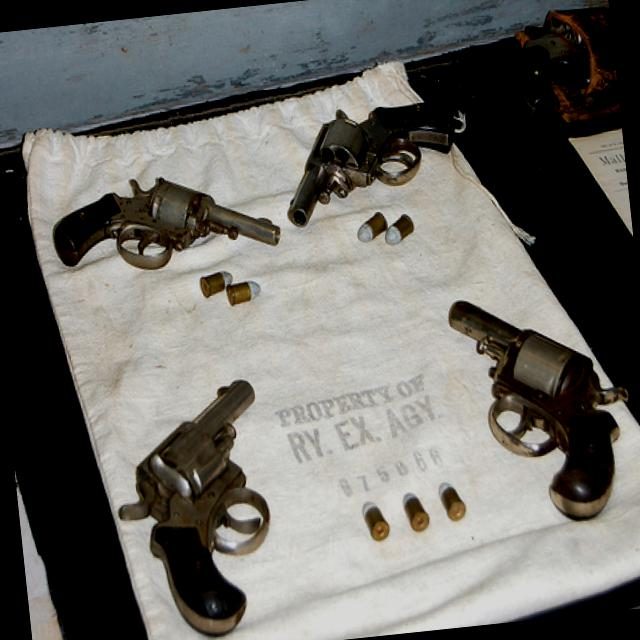handgun: (437, 279, 639, 536), (101, 369, 284, 639), (46, 165, 280, 274), (278, 90, 461, 227), (509, 0, 620, 125)
